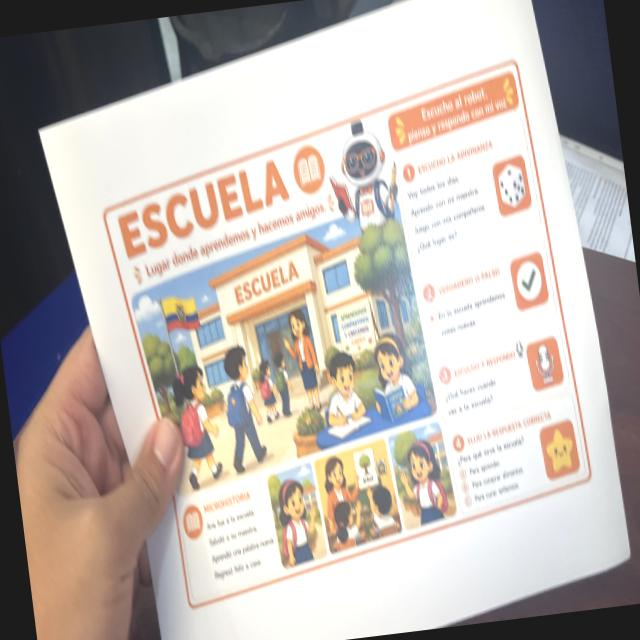escuela: (84, 43, 607, 623)
